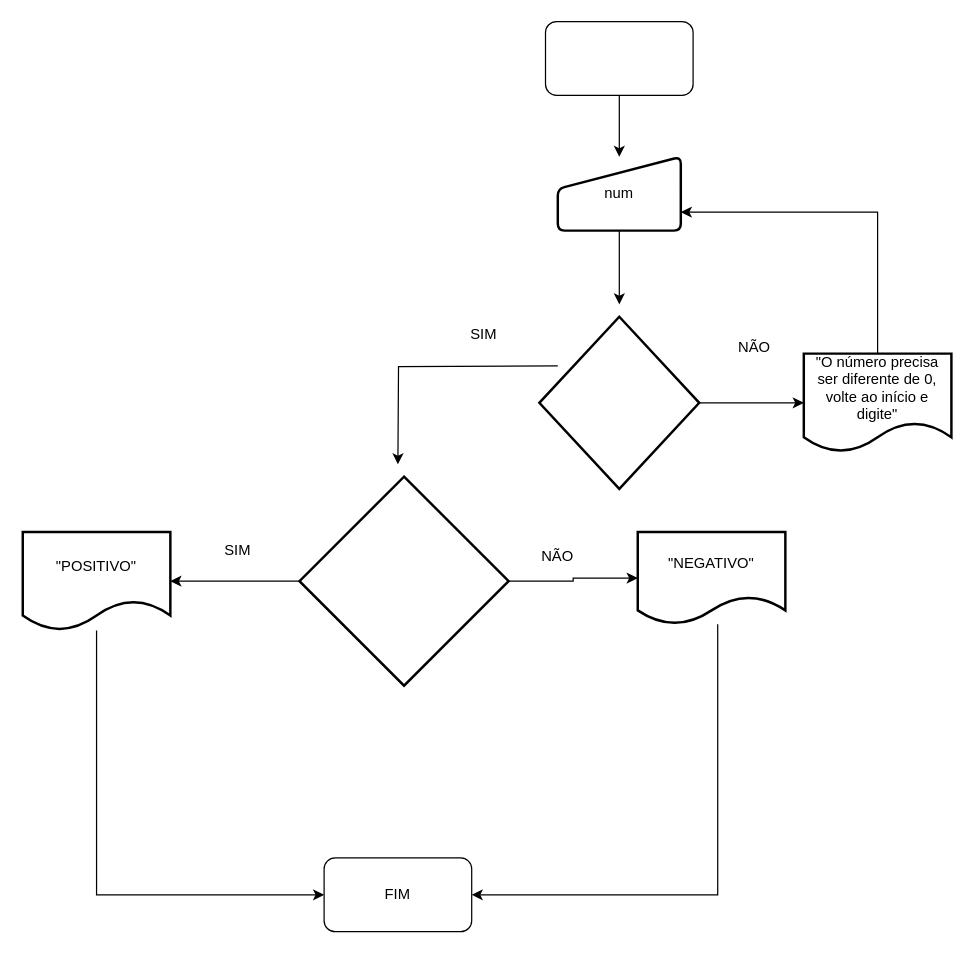
The diagram is 973 pixels wide and 953 high, and some of its shapes have lost their labels. The centre of each missing label's shape, as x and y in pixels:
"INÍCIO" belongs at point (618, 57).
"num != 0" belongs at point (619, 402).
"num > 0" belongs at point (403, 580).
